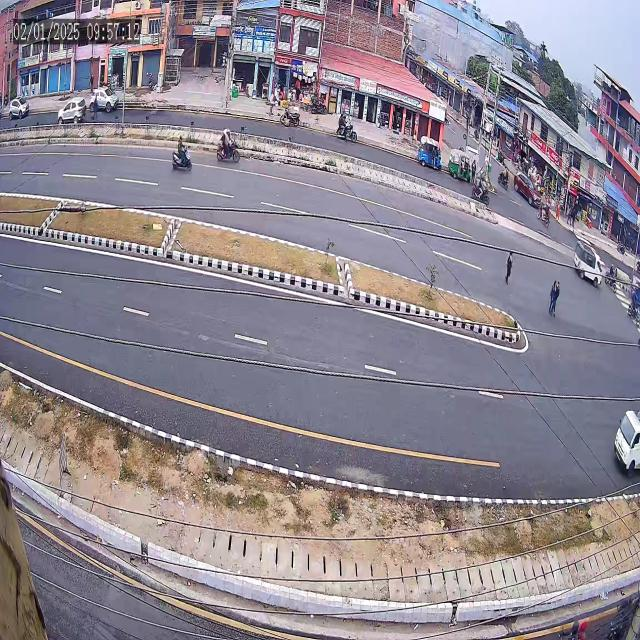motorcycle: (164, 122, 196, 180), (214, 114, 242, 172)
